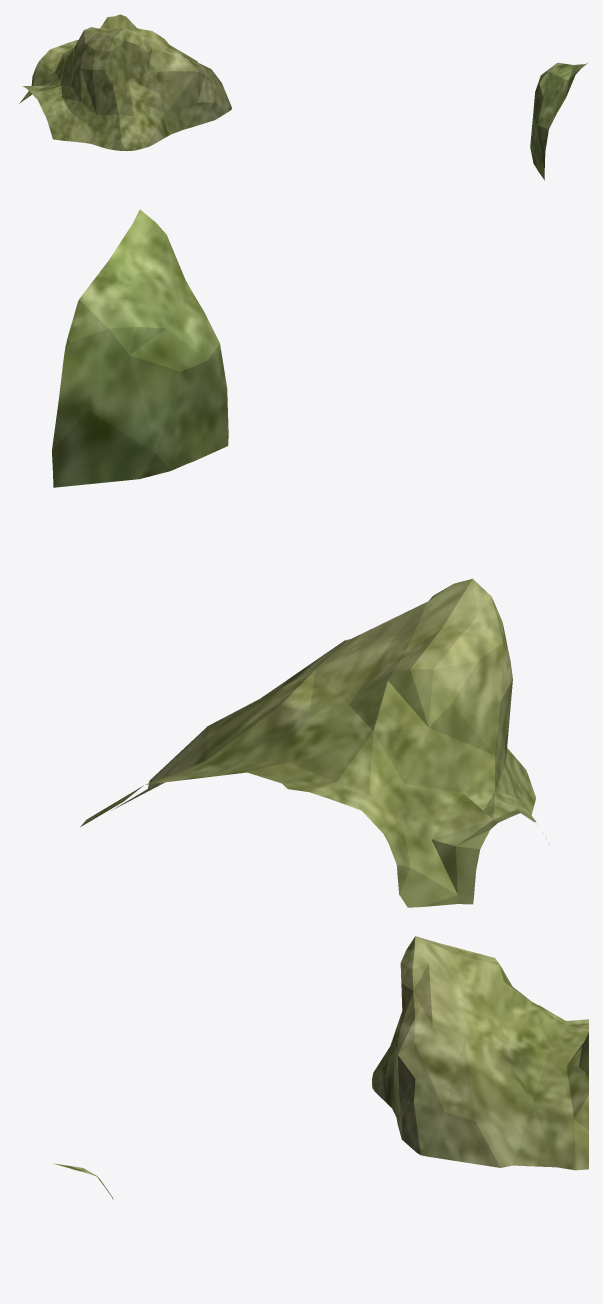
3 views of the same model, one above another, from view 1: azimuth 30°, elevation 25°; view 2: azimuth 150°, elevation 25°; view 3: azimuth 270°, elevation 25° (orthographic). The views are drawn at different scales.
Bounding box in the file's own units: 2.95 × 0.831 × 2.95.
1 material, 1 textured.
